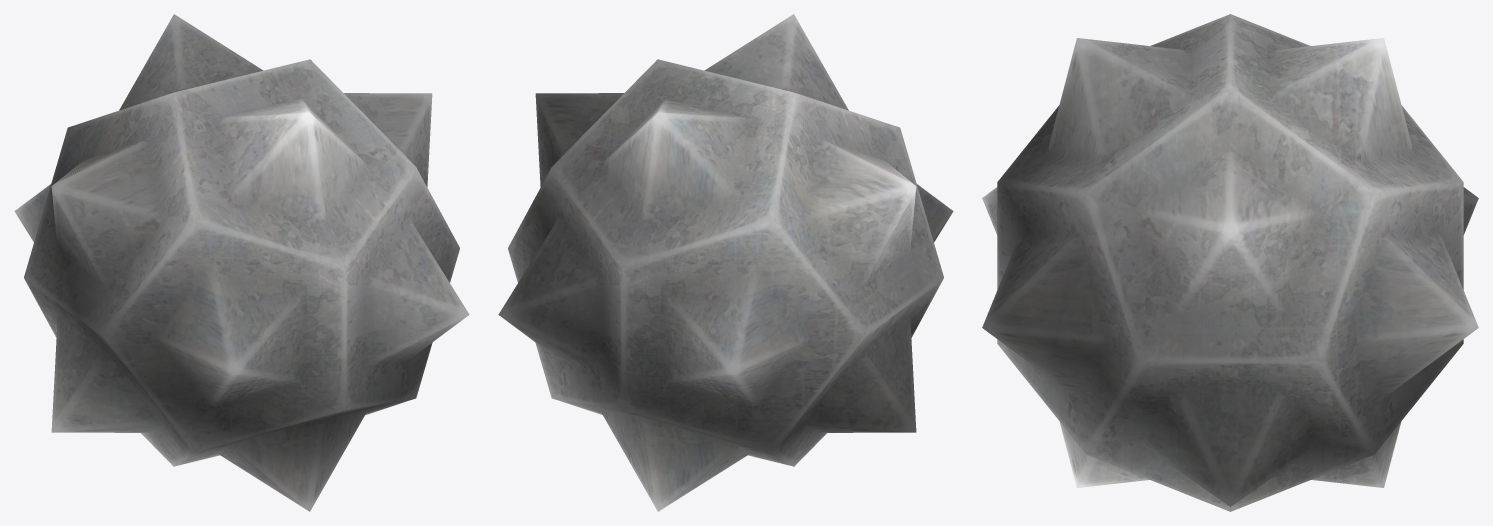
File: spiked-ball.obj
3 views of the same model, side by side, from view 1: azimuth 30°, elevation 25°; view 2: azimuth 150°, elevation 25°; view 3: azimuth 270°, elevation 25° (orthographic). The views are drawn at different scales.
Visible parts, largest first — view 1: Projectile2HP_map1_0; view 2: Projectile2HP_map1_0; view 3: Projectile2HP_map1_0.
Boxes of the visible parts, x1,y1,x2,y2 form: Projectile2HP_map1_0: (14, 14, 469, 511); Projectile2HP_map1_0: (498, 14, 953, 511); Projectile2HP_map1_0: (982, 14, 1478, 511).
Size of the model in its own units: 47.76 by 47.76 by 47.76.
1 material, 1 textured.
